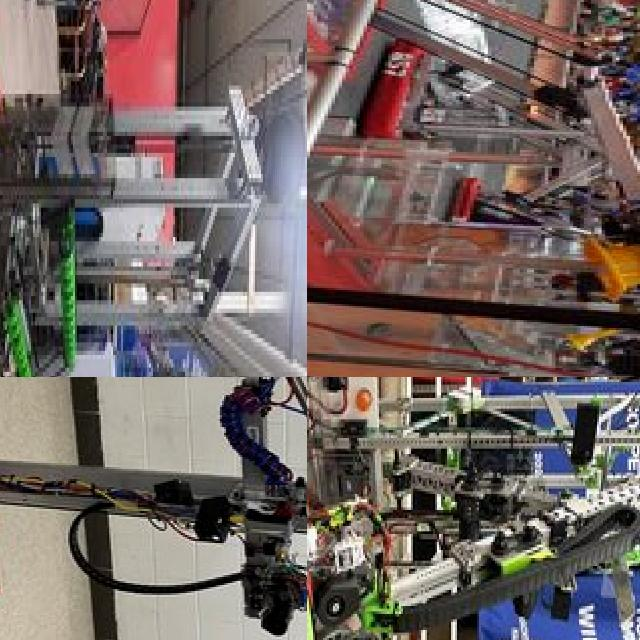FRC-Robots: (307, 0, 640, 307), (0, 0, 271, 377), (307, 377, 640, 640), (0, 377, 307, 640), (372, 32, 640, 245), (444, 168, 634, 350)
